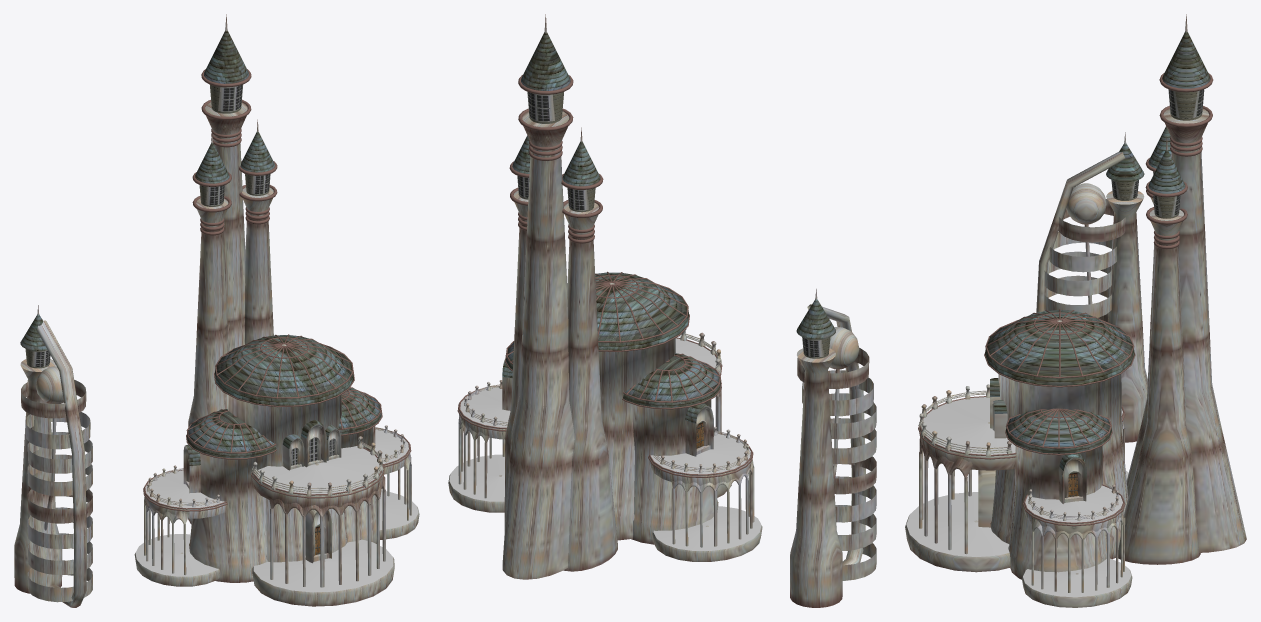
File: castle.obj
3 views of the same model, side by side, from view 1: azimuth 30°, elevation 25°; view 2: azimuth 150°, elevation 25°; view 3: azimuth 270°, elevation 25° (orthographic). The views are drawn at different scales.
Visible parts, largest first — view 1: mesh01, object 2; view 2: mesh01, object 2; view 3: mesh01, object 2.
Part boxes in pixels (x1,y1,x2,y2): mesh01: (14, 14, 419, 607); object 2: (20, 30, 418, 592); mesh01: (448, 14, 876, 607); object 2: (449, 32, 835, 550); mesh01: (905, 14, 1246, 607); object 2: (906, 31, 1210, 597).
Bounding box in the file's own units: 277 × 349 × 203.
